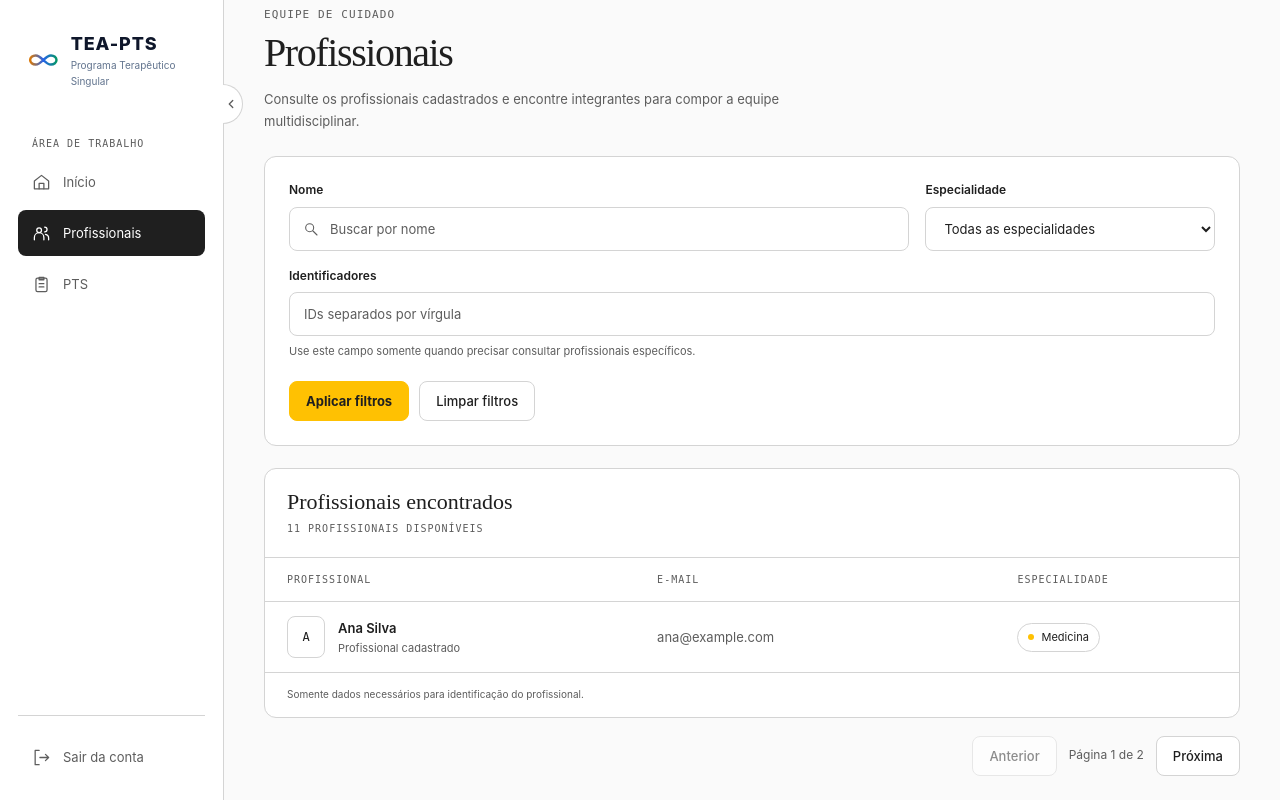
ProfessionalsPage › consulta a próxima página mantendo os filtros
The image size is (1280, 800).
(page scrolled)
Expected: the text "Ana Silva" is shown, [338,620,396,636]
Click the button "Próxima" at (1198, 756), box [1156,736,1240,776]
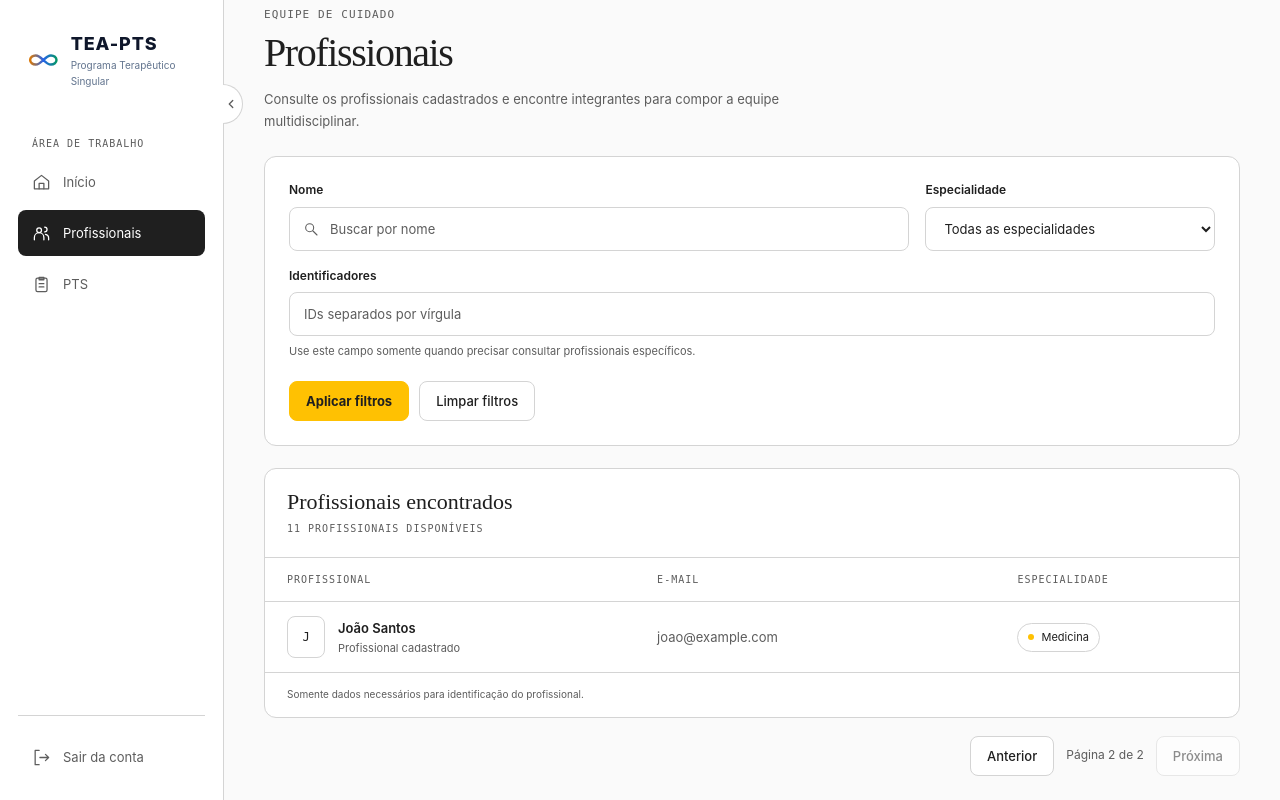
Expected: the text "João Santos" is shown, [338,620,416,636]
